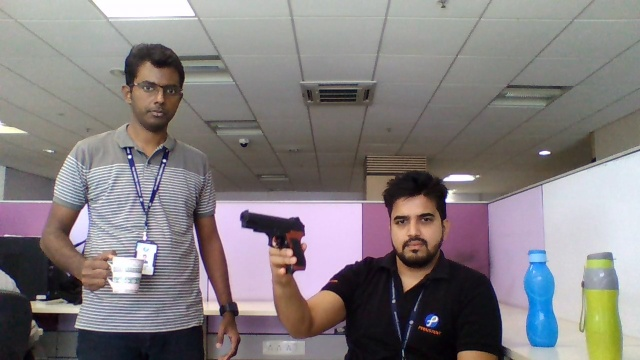gun: (239, 209, 303, 246)
